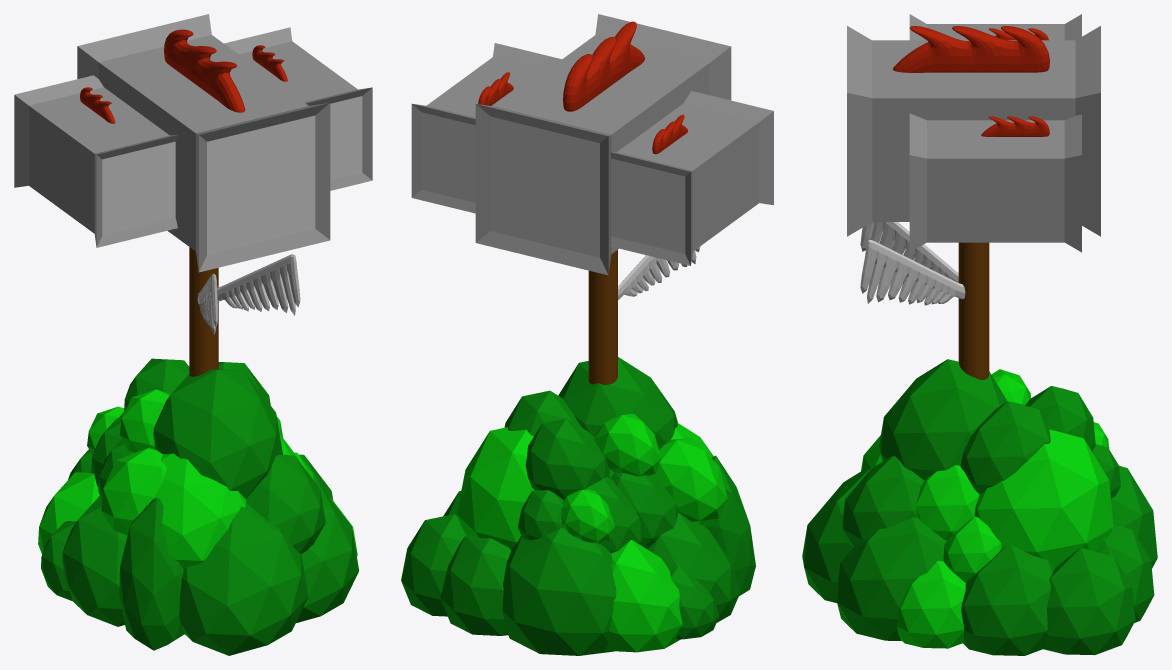
Rendered from BigHammer.fbx.
3 renders of one model, left to right at view 1: azimuth 30°, elevation 25°; view 2: azimuth 150°, elevation 25°; view 3: azimuth 270°, elevation 25°, orthographic. The views are drawn at different scales.
Parts seen in each view (by area): view 1: Cube.011, Cube.013, Bush.055, Bush.074, Bush.070, Bush.068, Bush.069, Bush.079, Bush.071, Cube.014, Bush.075, Cube.015 (+9 smaller); view 2: Cube.011, Cube.013, Bush.063, Bush.058, Bush.056, Bush.061, Bush.074, Bush.067, Bush.069, Bush.075, Bush.062, Cube.015 (+11 smaller); view 3: Cube.011, Cube.013, Bush.058, Bush.074, Bush.071, Bush.059, Bush.062, Cube.014, Cube.015, Bush.076, Bush.060, Bush.079 (+10 smaller).
Part boxes in pixels (x1=…): Cube.011: x1=77, y1=14, x2=330, y2=272; Cube.013: x1=14, y1=27, x2=372, y2=247; Bush.055: x1=179, y1=502, x2=308, y2=655; Bush.074: x1=153, y1=369, x2=282, y2=498; Bush.070: x1=119, y1=497, x2=184, y2=650; Bush.068: x1=145, y1=453, x2=246, y2=569; Bush.069: x1=62, y1=495, x2=126, y2=626; Bush.079: x1=246, y1=455, x2=325, y2=553; Bush.071: x1=296, y1=482, x2=359, y2=622; Cube.014: x1=197, y1=254, x2=300, y2=335; Bush.075: x1=101, y1=448, x2=166, y2=537; Cube.015: x1=164, y1=29, x2=245, y2=112; Cube.011: x1=475, y1=14, x2=731, y2=275; Cube.013: x1=411, y1=43, x2=773, y2=265; Bush.063: x1=502, y1=528, x2=616, y2=655; Bush.058: x1=456, y1=427, x2=534, y2=549; Bush.056: x1=605, y1=540, x2=682, y2=652; Bush.061: x1=440, y1=534, x2=511, y2=635; Bush.074: x1=558, y1=357, x2=677, y2=449; Bush.067: x1=525, y1=418, x2=609, y2=499; Bush.069: x1=647, y1=512, x2=740, y2=622; Bush.075: x1=655, y1=438, x2=727, y2=524; Bush.062: x1=401, y1=514, x2=466, y2=616; Cube.015: x1=563, y1=21, x2=644, y2=111; Cube.011: x1=847, y1=26, x2=1100, y2=236; Cube.013: x1=909, y1=14, x2=1081, y2=252; Bush.058: x1=974, y1=429, x2=1113, y2=567; Bush.074: x1=879, y1=359, x2=1007, y2=480; Bush.071: x1=835, y1=517, x2=946, y2=640; Bush.059: x1=961, y1=544, x2=1054, y2=655; Bush.062: x1=1043, y1=548, x2=1135, y2=655; Cube.014: x1=860, y1=222, x2=965, y2=305; Cube.015: x1=893, y1=26, x2=1049, y2=72; Bush.076: x1=960, y1=401, x2=1051, y2=494; Bush.060: x1=897, y1=561, x2=965, y2=648; Bush.079: x1=842, y1=455, x2=924, y2=547.
Bounding box in the file's own units: 3.39 × 3.23 × 6.06.
